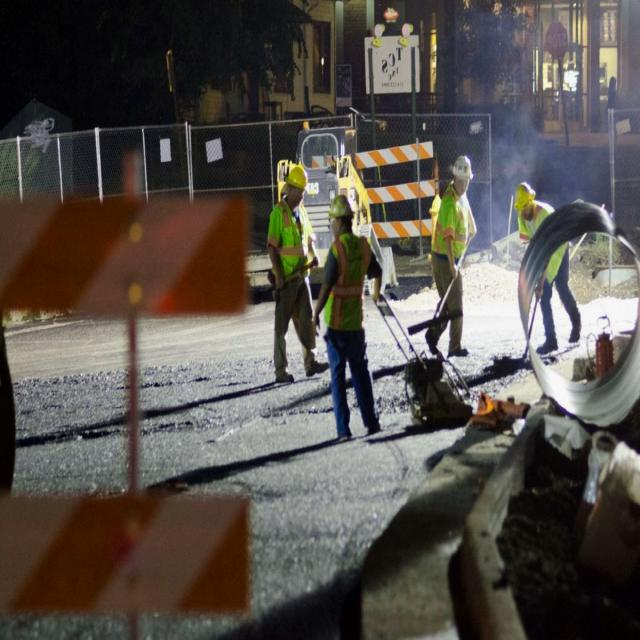hand_noglove: (447, 262, 460, 285)
head_helmet: (509, 183, 535, 209), (282, 166, 312, 188), (453, 156, 477, 179), (331, 193, 354, 216)
person: (325, 189, 375, 441), (418, 158, 480, 356), (506, 180, 576, 352), (264, 172, 318, 383)
shoes: (303, 350, 331, 380), (534, 329, 561, 356), (426, 320, 444, 358), (274, 362, 299, 388), (446, 338, 471, 362)
vest: (326, 242, 373, 327), (428, 198, 472, 260), (267, 212, 309, 268), (525, 208, 562, 268)
